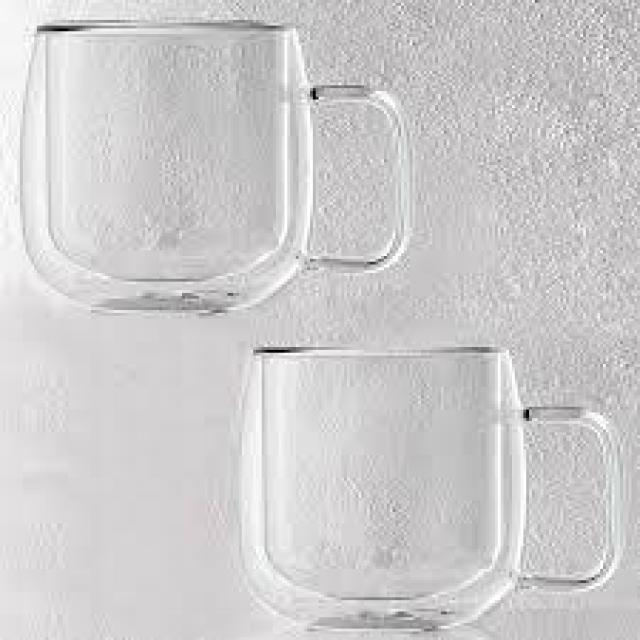non-organic waste: (223, 338, 636, 640)
